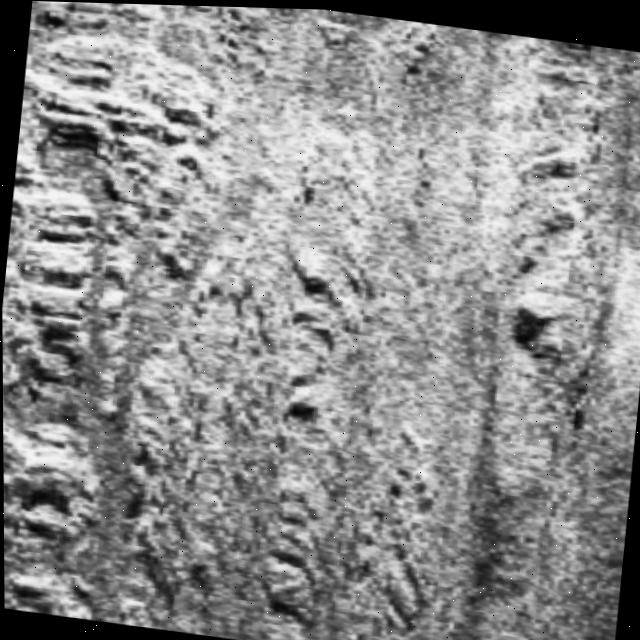bedrock group: (0, 0, 492, 640), (456, 32, 640, 640)
